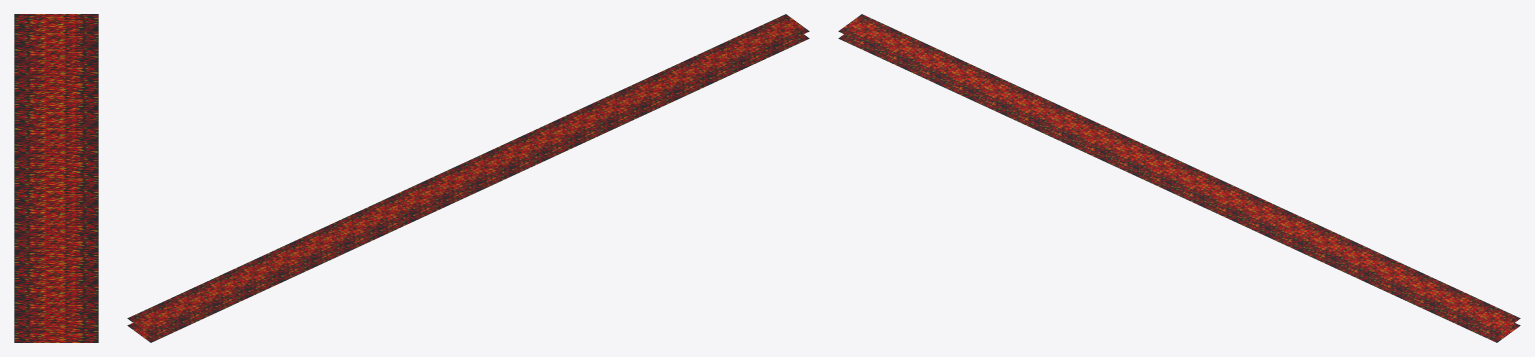
File: CourseAki_Floor_2.fbx
3 renders of one model, left to right at view 1: azimuth 90°, elevation 25°; view 2: azimuth 210°, elevation 25°; view 3: azimuth 330°, elevation 25°, orthographic. The views are drawn at different scales.
Parts seen in each view (by area): view 1: polySurface438; view 2: polySurface438; view 3: polySurface438.
Part boxes in pixels (<box>): polySurface438: <box>14,14,98,342</box>; polySurface438: <box>127,14,809,342</box>; polySurface438: <box>838,14,1520,342</box>.
Bounding box in the file's own units: 96 × 21 × 6.
1 material, 1 textured.
